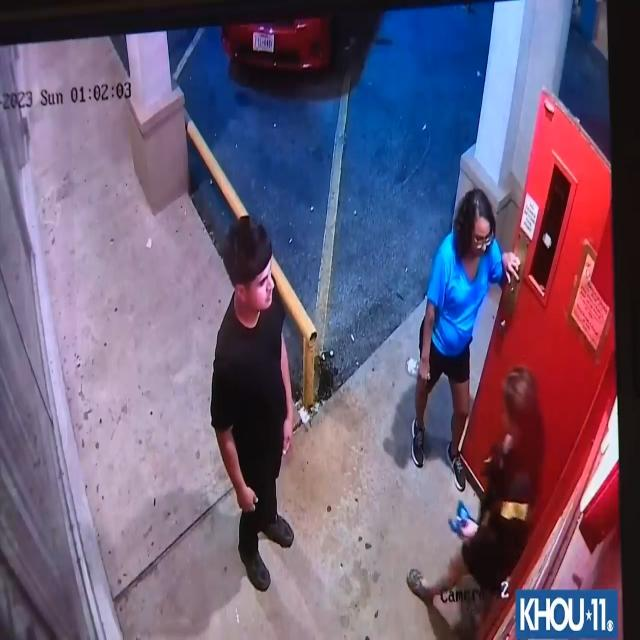Person: (202, 192, 306, 580), (433, 369, 545, 626), (414, 191, 509, 484)
